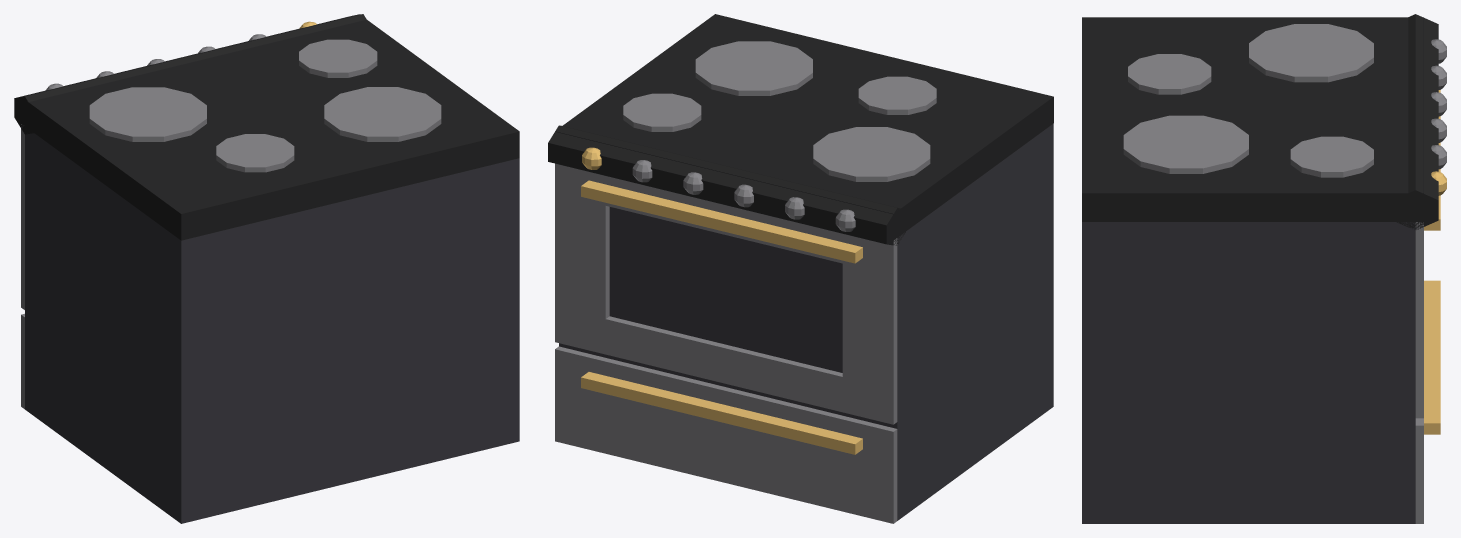
Rendered from oven.fbx.
3 views of the same model, side by side, from view 1: azimuth 30°, elevation 25°; view 2: azimuth 150°, elevation 25°; view 3: azimuth 270°, elevation 25° (orthographic). The views are drawn at different scales.
Parts seen in each view (by area): view 1: cube, cube_1, cylinder_1, cylinder_3, cylinder, cylinder_2, cylinder_4; view 2: cube, cube_1, cube_2, cube_3, cylinder, cube_5, cube_4, cube_6, cylinder_1, cylinder_3, cube_7, cube_8 (+2 smaller); view 3: cube, cube_1, cylinder_1, cylinder_3, cylinder, cylinder_2, cylinder_4, cube_8, cube_4, cube_2.
Part boxes in pixels (x1,y1,x2,y2): cube: (25,133,519,523); cube_1: (21,14,519,240); cylinder_1: (324,87,441,141); cylinder_3: (89,87,206,141); cylinder: (14,14,366,134); cylinder_2: (299,39,377,77); cylinder_4: (216,134,294,172); cube: (559,123,1053,520); cube_1: (555,14,1053,239); cube_2: (555,346,897,523); cube_3: (555,307,897,424); cylinder: (548,125,905,245); cube_5: (842,263,897,389); cube_4: (555,193,609,318); cube_6: (555,163,897,275); cylinder_1: (695,41,812,95); cylinder_3: (813,127,930,181); cube_7: (581,180,862,263); cube_8: (581,372,862,454); cube: (1082,222,1415,523); cube_1: (1082,17,1423,221); cylinder_1: (1123,115,1248,173); cylinder_3: (1249,24,1373,82); cylinder: (1396,14,1438,229); cylinder_2: (1290,136,1373,177); cylinder_4: (1128,54,1211,94); cube_8: (1424,280,1440,434); cube_4: (1415,259,1423,380); cube_2: (1415,418,1423,523).
Bounding box in the file's own units: 62.51 × 55.62 × 54.7.
Materials: 1 (1 with a texture image).
